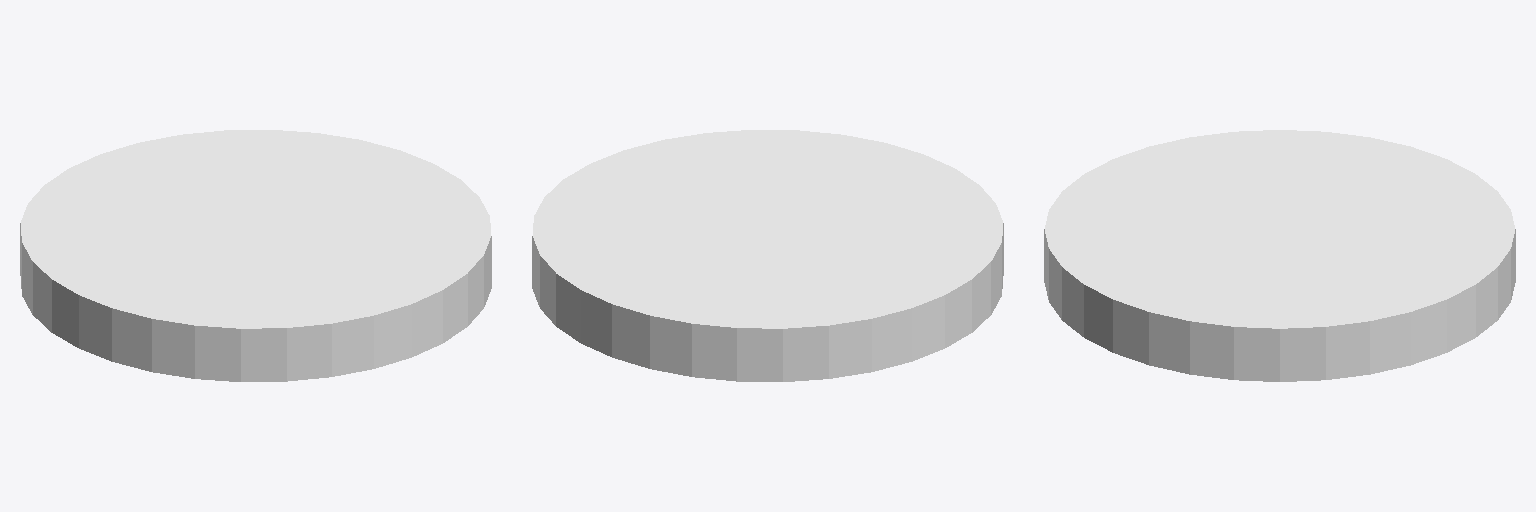
URDF robot description (urdf_robot):
<?xml version="1.0" ?>
<robot name="urdf_robot">
    <link name="baseLink">
  	<contact>
      <restitution value="0.0" />
      <rolling_friction value="0.01"/>
      <spinning_friction value="0.01"/>
    </contact>

    <inertial>
      <origin rpy="0 0 0" xyz="0 0 0"/>
       <mass value="0.1"/>
       <inertia ixx="0.00016" ixy="0" ixz="0" iyy="0.00016" iyz="0" izz="0.00032"/>
    </inertial>
    <visual>
      <origin rpy="0 0 0" xyz="0 0 0"/>
      <geometry>
				<!-- <mesh filename="textured_sphere_smooth.obj" scale="0.08 0.08 0.02"/> -->
                <cylinder radius="0.08" length="0.02"/>
      </geometry>
      <material name="white">
          <color rgba="1 1 1 1"/>
      </material>
    </visual>
    <collision>
        <origin rpy="0 0 0" xyz="0 0 0"/>
        <geometry>
            <!-- sphere radius="0.02" -->
            <!-- <mesh filename="textured_sphere_smooth.obj" scale="0.08 0.08 0.02"/> -->
            <cylinder radius="0.08" length="0.02"/>
        </geometry>
    </collision>
    </link>
</robot>

--- What the picture shows (computed from the rendered views, not written in the file) ---
Views: 3 orthographic renders of the robot side by side, from view 1: azimuth 30°, elevation 25°; view 2: azimuth 150°, elevation 25°; view 3: azimuth 270°, elevation 25°.
Model urdf_robot with 1 links and 0 joints (none), rooted at baseLink, posed all joints at 0.
Links seen in each view (by area): view 1: baseLink; view 2: baseLink; view 3: baseLink.
Link boxes in pixels (box(x1,y1,x2,y2)): baseLink: box(20, 130, 491, 381); baseLink: box(532, 130, 1003, 381); baseLink: box(1044, 130, 1515, 381).
Bounding box of the posed robot: 0.16 × 0.16 × 0.02 m (x, y, z).
Geometry: primitives only (box / cylinder / sphere), no mesh files.